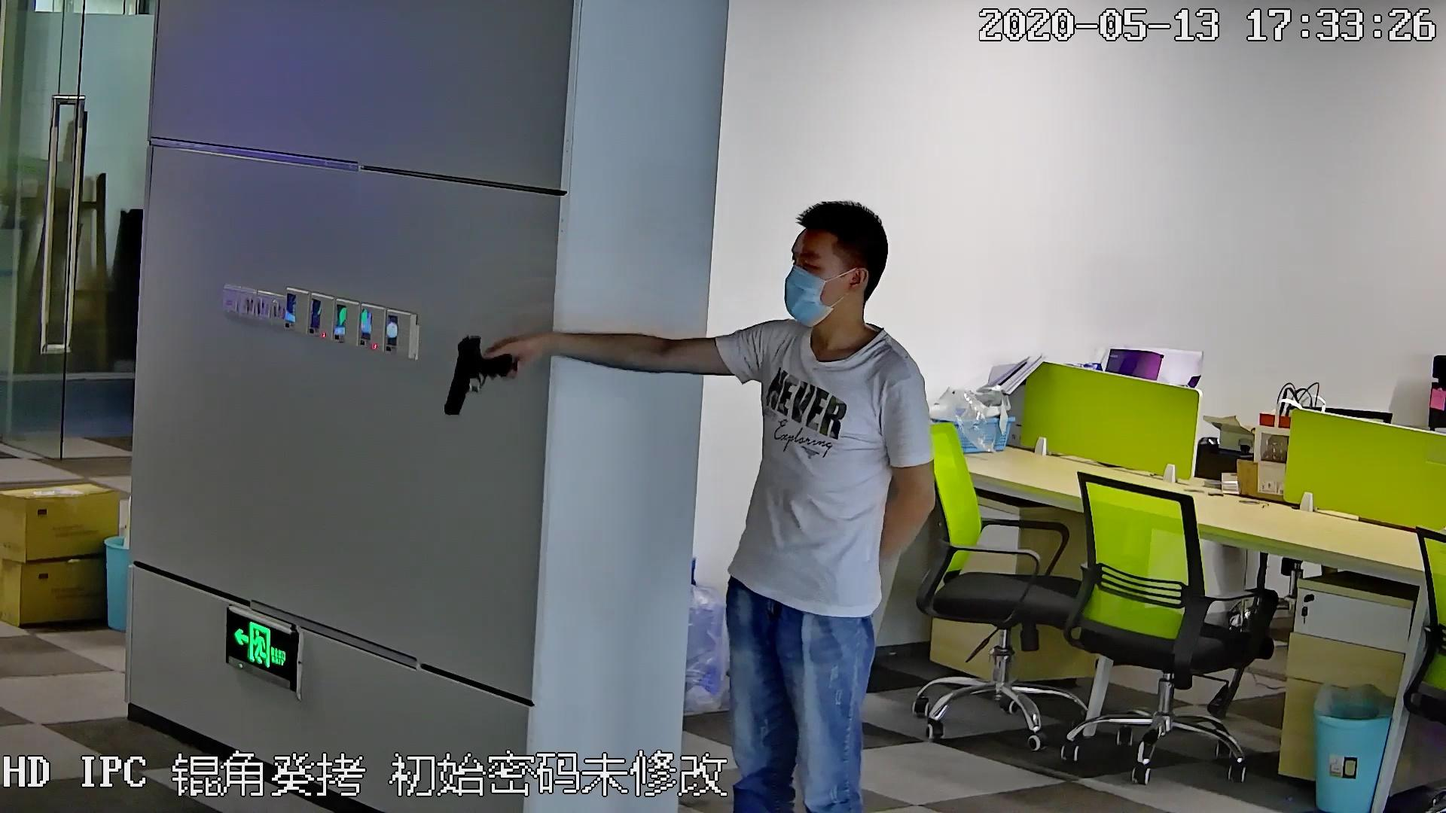gun: (422, 327, 513, 422)
